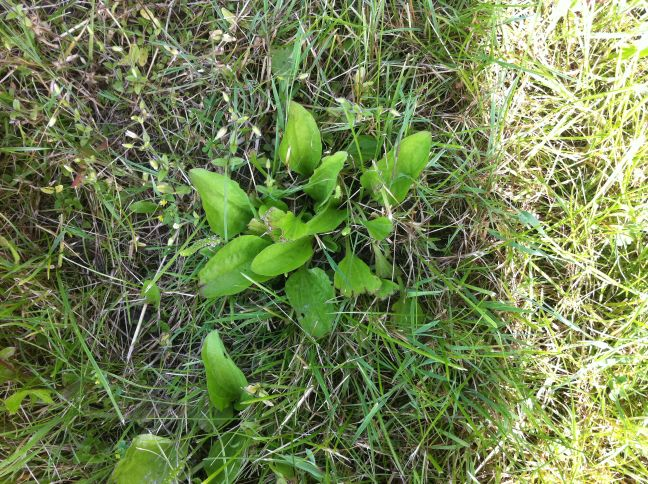weed1: (186, 97, 433, 342), (110, 326, 278, 484)
